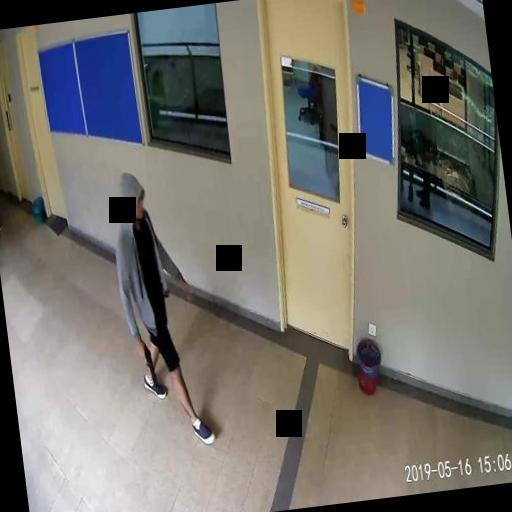Handgun: (138, 340, 156, 388)
